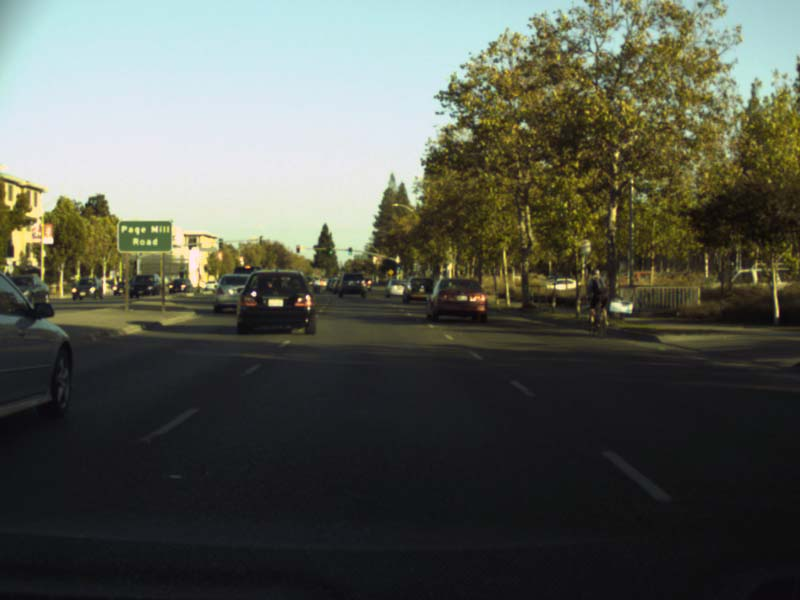Green: (328, 246, 332, 254), (348, 247, 352, 254)
Red: (295, 245, 299, 252)
